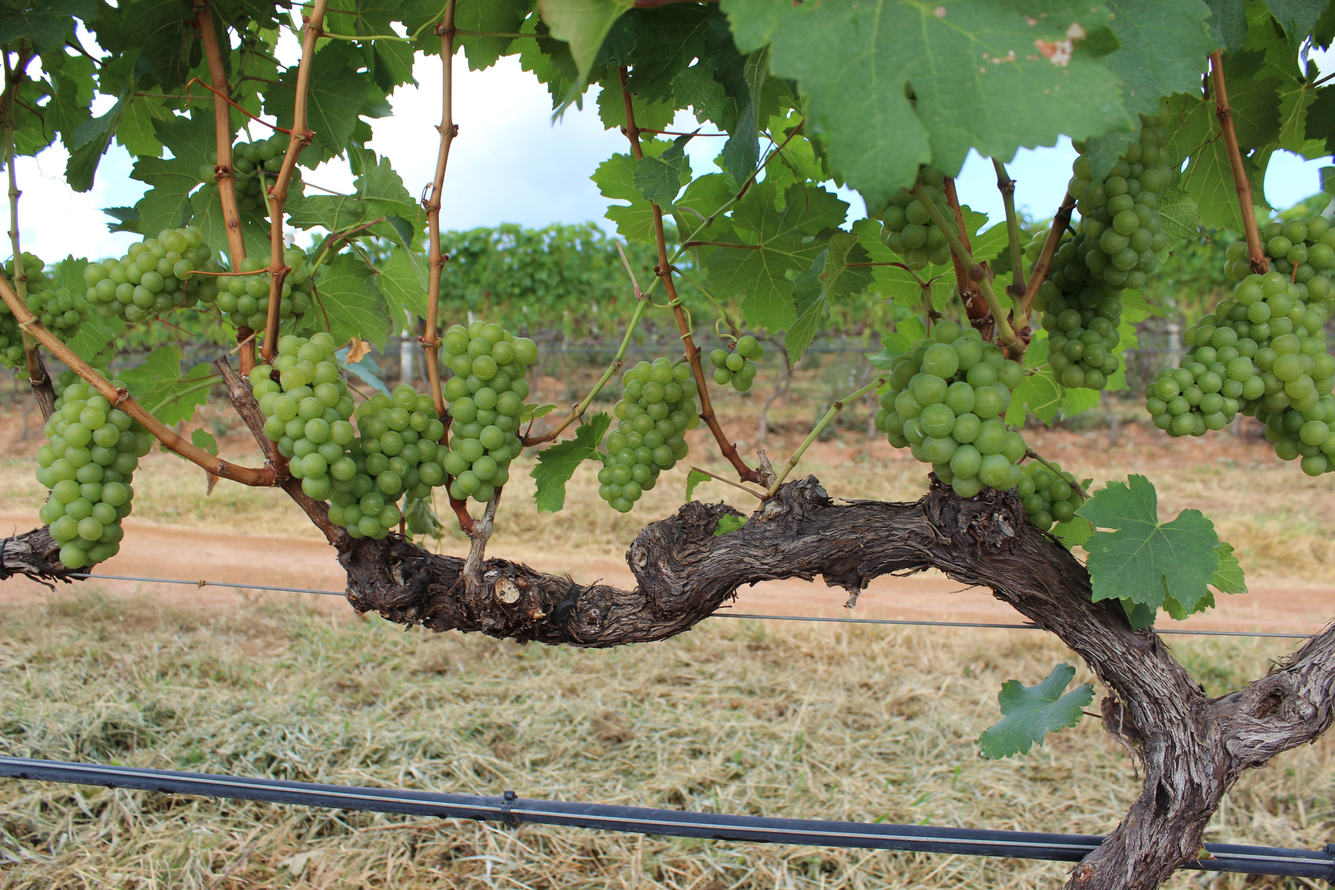leaf: (722, 0, 1134, 212), (706, 182, 849, 330), (1076, 474, 1220, 611), (979, 663, 1094, 759), (131, 110, 216, 236), (530, 412, 610, 512), (537, 0, 633, 81), (118, 345, 212, 425), (310, 254, 388, 349), (0, 0, 97, 52), (633, 134, 693, 210), (1263, 0, 1328, 53), (1210, 542, 1248, 594), (685, 468, 712, 502), (714, 513, 748, 536), (1170, 46, 1195, 57), (1192, 55, 1196, 59), (213, 189, 216, 191)
